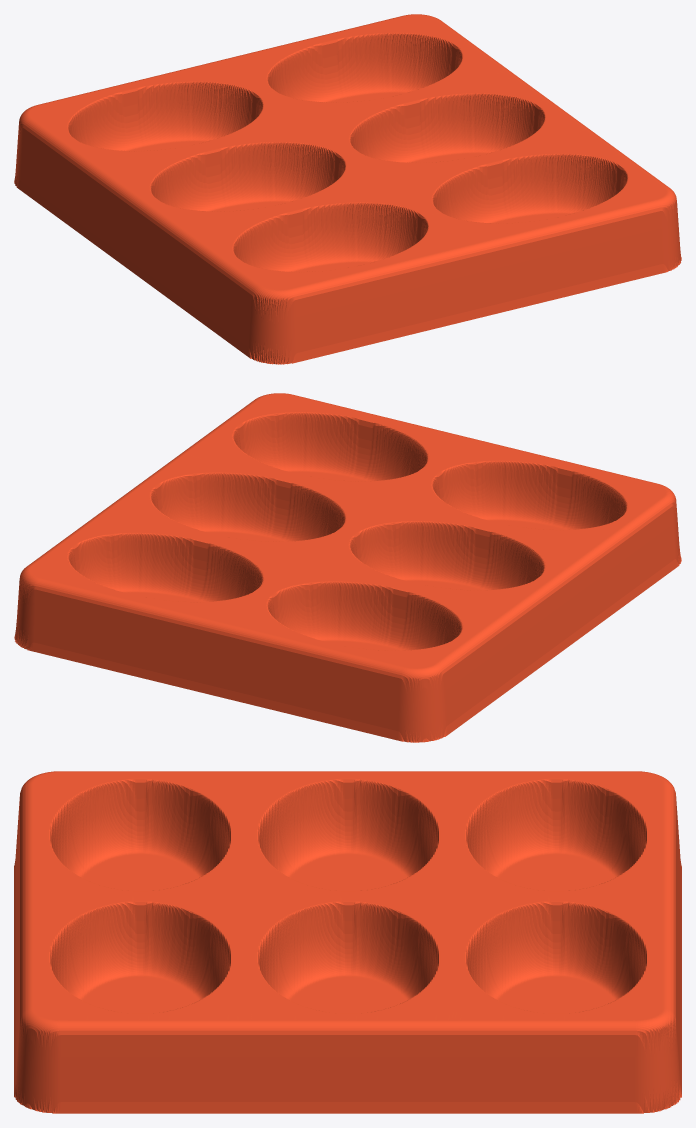
Rendered from mold.glb.
3 renders of one model, top to bottom at view 1: azimuth 30°, elevation 25°; view 2: azimuth 150°, elevation 25°; view 3: azimuth 270°, elevation 25°, orthographic. The views are drawn at different scales.
Parts seen in each view (by area): view 1: geometry_0; view 2: geometry_0; view 3: geometry_0.
Boxes of the visible parts, bbox=[...] form: geometry_0: bbox=[14, 14, 681, 364]; geometry_0: bbox=[14, 393, 681, 742]; geometry_0: bbox=[14, 771, 681, 1113].
Bounding box in the file's own units: 0.1222 × 0.0185 × 0.1309.
